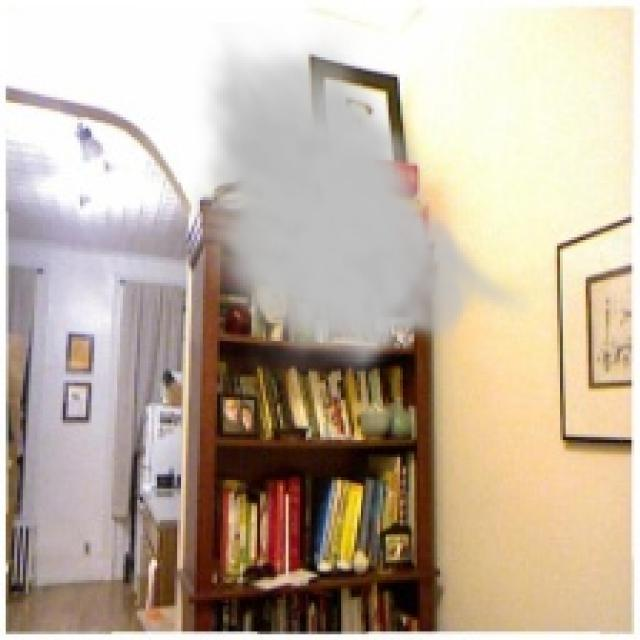smoke: (186, 23, 537, 386)
